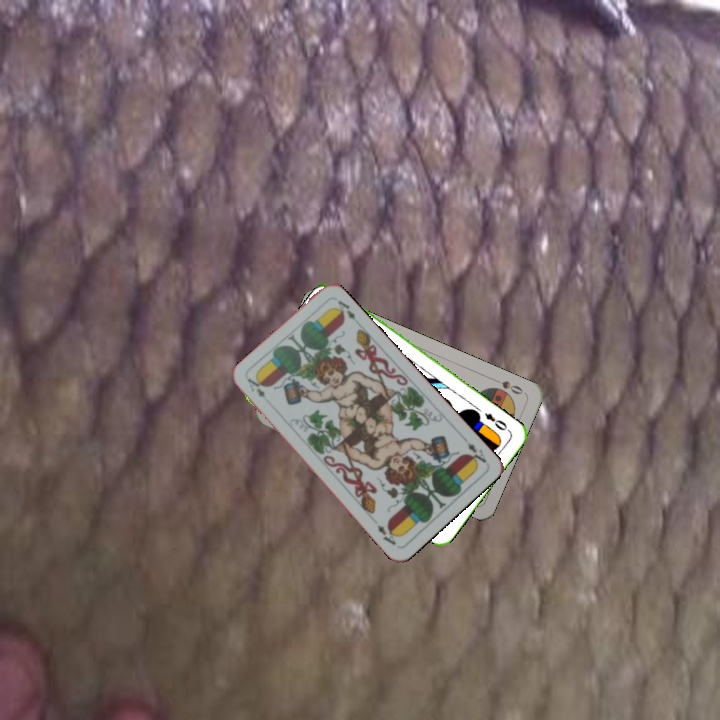EA: (459, 433, 489, 468), (243, 374, 268, 401)
EO: (480, 408, 510, 433)
SO: (489, 374, 528, 397)
